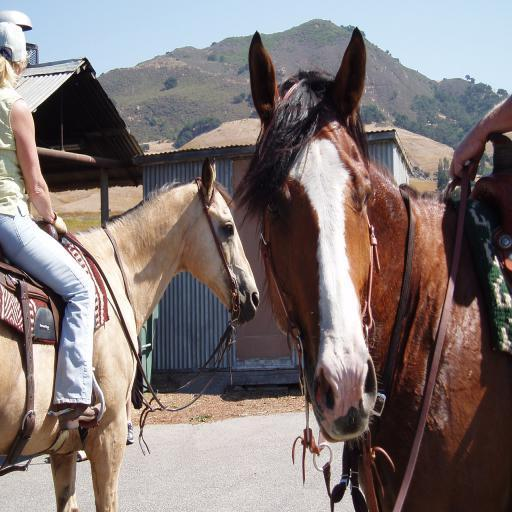horse: (228, 23, 512, 512), (0, 153, 260, 512)
